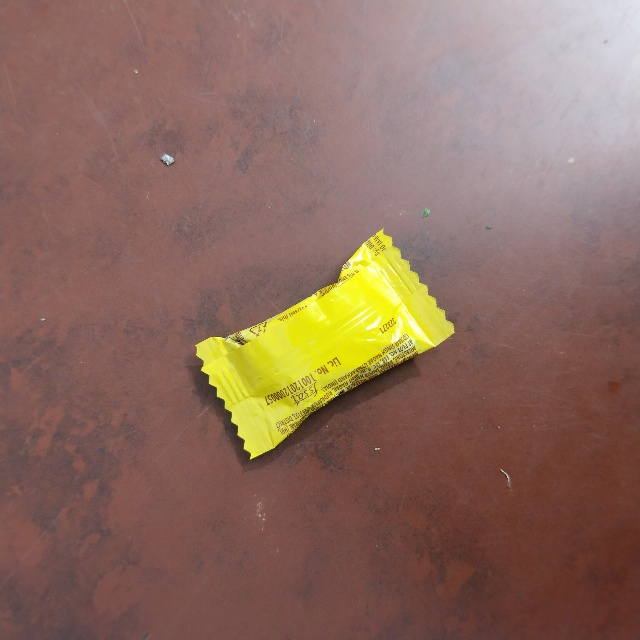Alpenlibe Creamfills: (173, 354, 434, 488)
